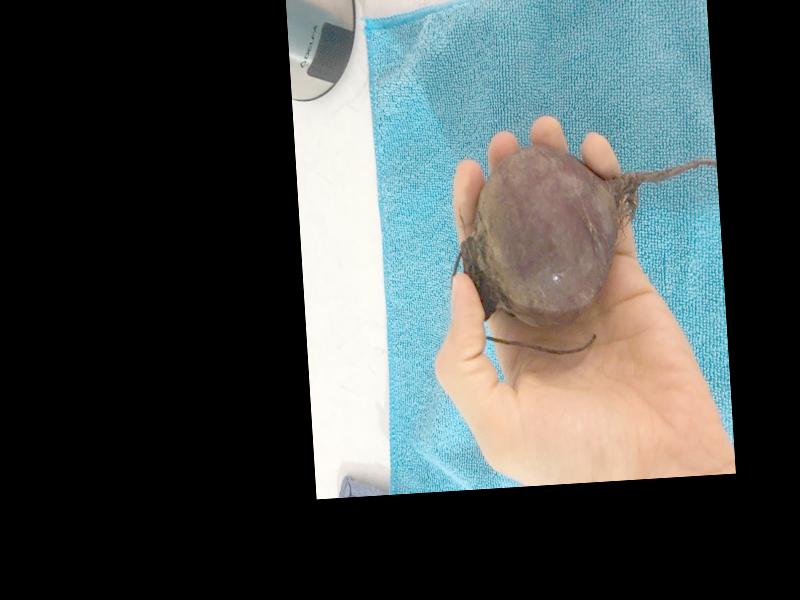Beet: (443, 133, 728, 359)
